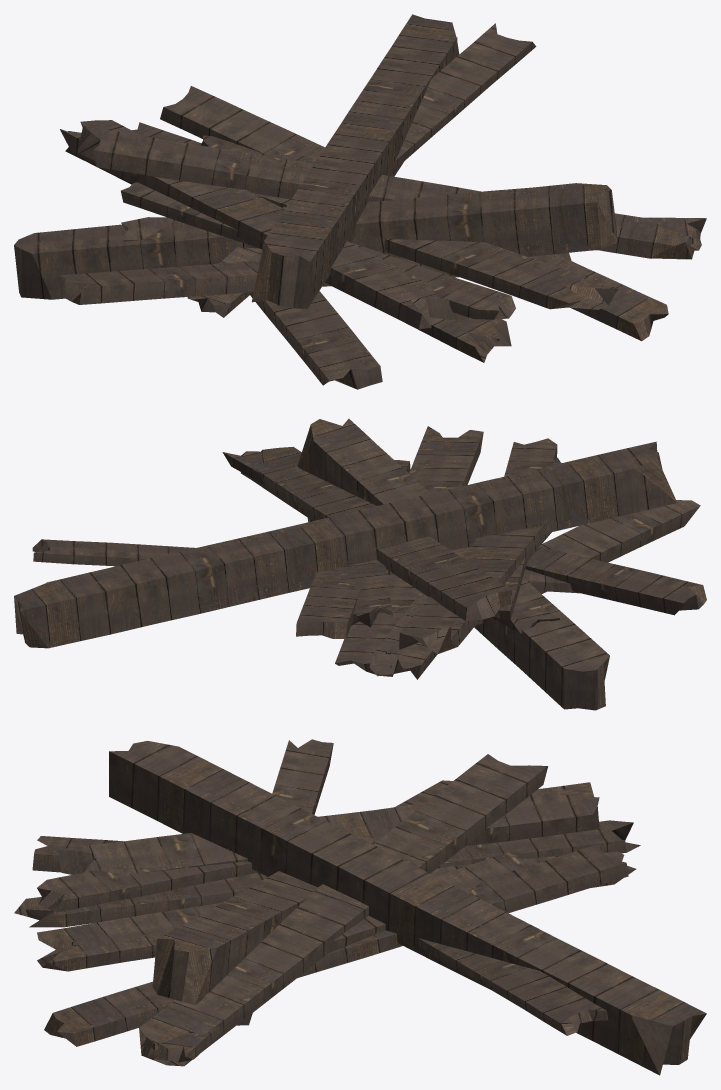
Rendered from plank_pile_procedural.glb.
3 views of the same model, one above another, from view 1: azimuth 30°, elevation 25°; view 2: azimuth 150°, elevation 25°; view 3: azimuth 270°, elevation 25° (orthographic). The views are drawn at different scales.
Visible parts, largest first — view 1: Cube; view 2: Cube; view 3: Cube.
Part boxes in pixels (x1=…): Cube: x1=14, y1=14, x2=706, y2=389; Cube: x1=14, y1=419, x2=706, y2=710; Cube: x1=14, y1=739, x2=706, y2=1075.
Size of the model in its own units: 2.68 by 0.578 by 2.66.
1 material, 1 textured.
